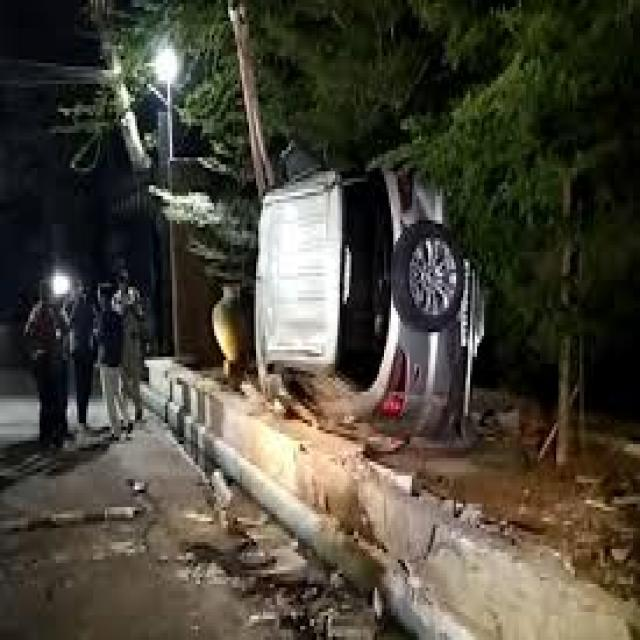accident: (224, 119, 511, 463)
